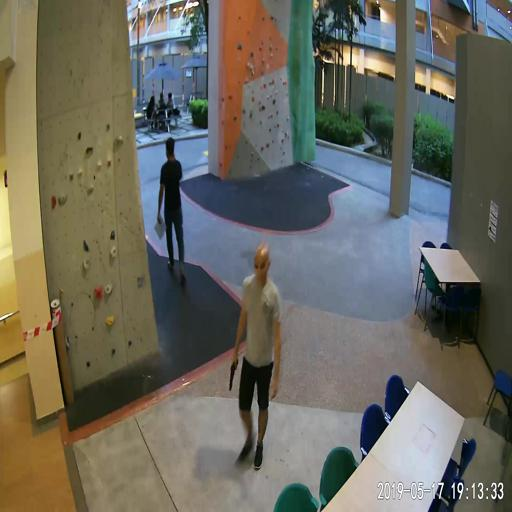pistol: (228, 356, 238, 390)
